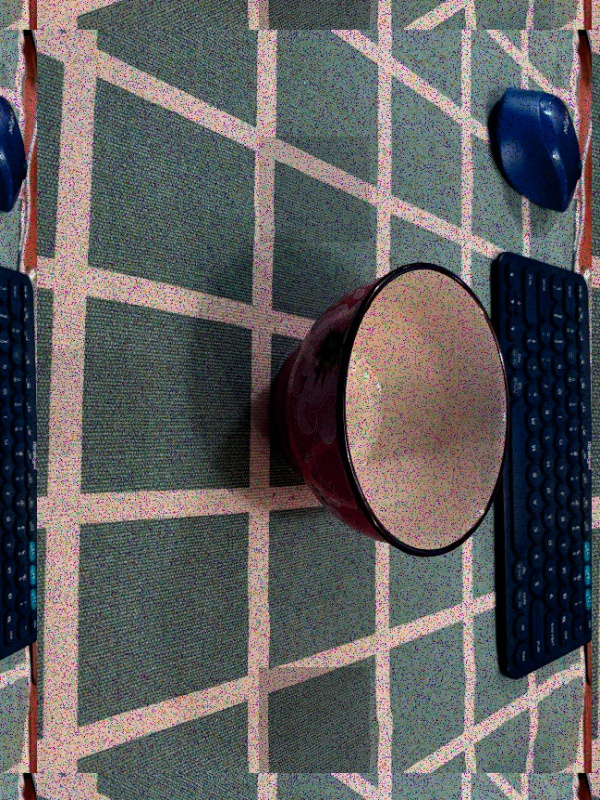bowl_small: (263, 253, 514, 561)
